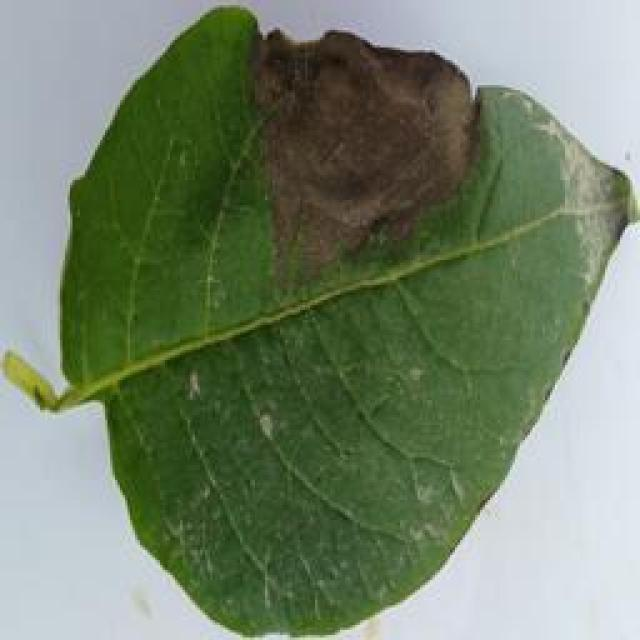Potato_Late_Blight: (11, 8, 630, 634)
